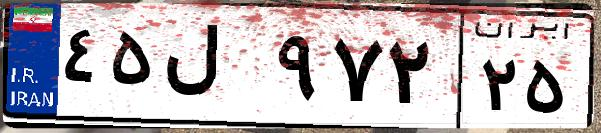2: (385, 28, 445, 110), (475, 38, 525, 113)
4: (57, 26, 110, 100)
5: (525, 38, 570, 115), (110, 28, 158, 98)
7: (330, 28, 385, 110)
9: (270, 28, 330, 110)
ل: (158, 20, 270, 120)
